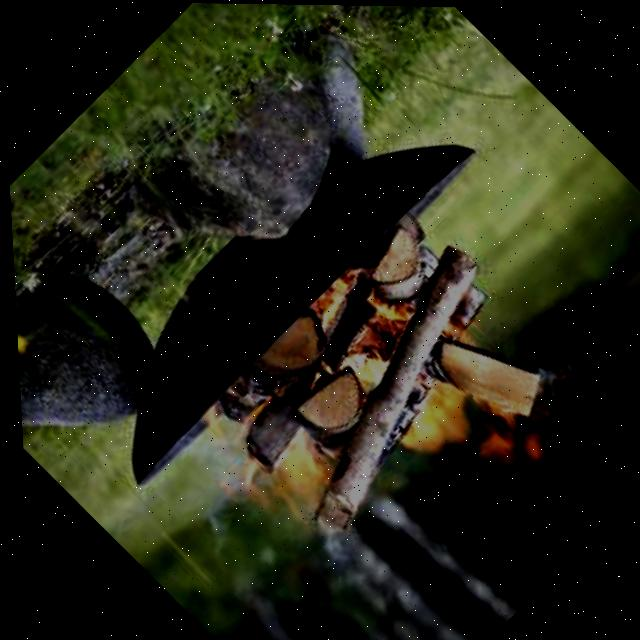Fire: (179, 222, 595, 626)
